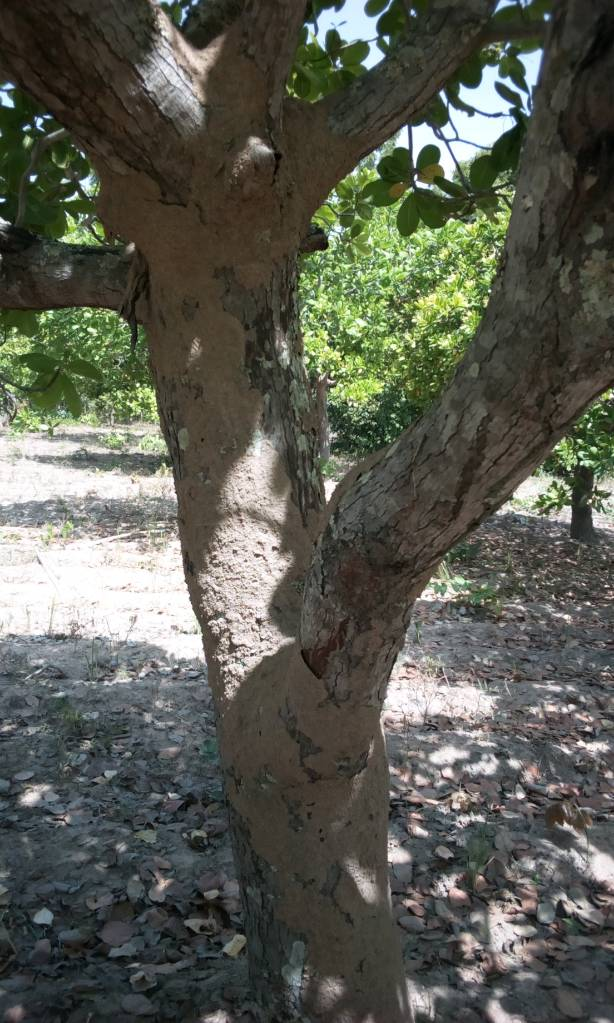Termites: (159, 214, 309, 677), (266, 682, 398, 1023)
